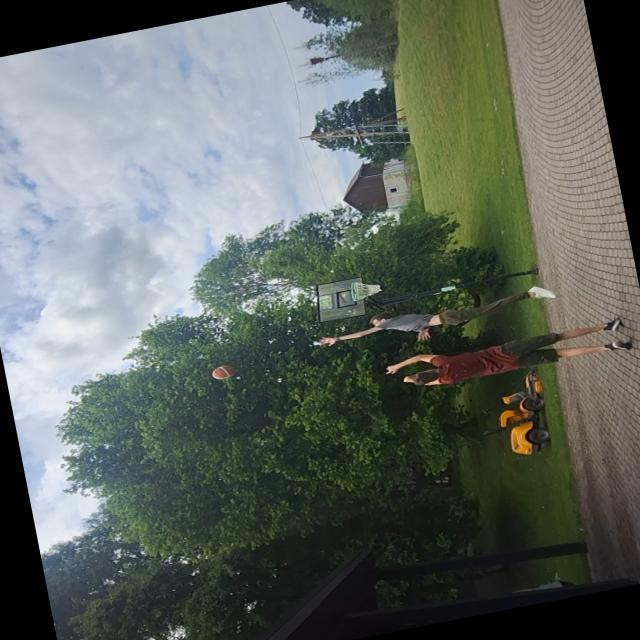ball: (206, 361, 237, 382)
hoop: (345, 272, 387, 305)
player: (380, 310, 634, 400), (304, 276, 564, 363)
